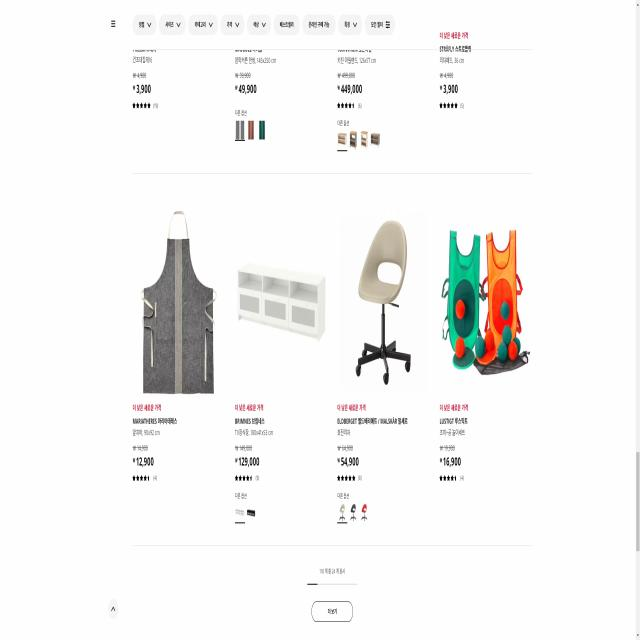tab-bar: (128, 183, 532, 540)
